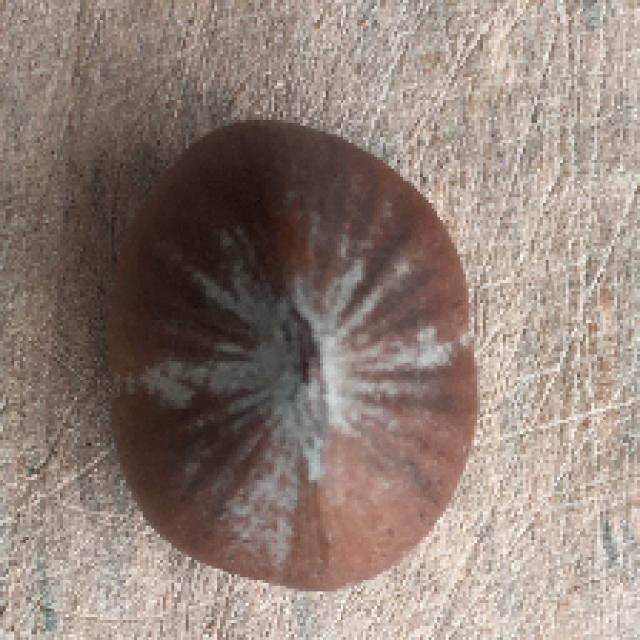damagedHazelnut: (87, 101, 493, 597)
